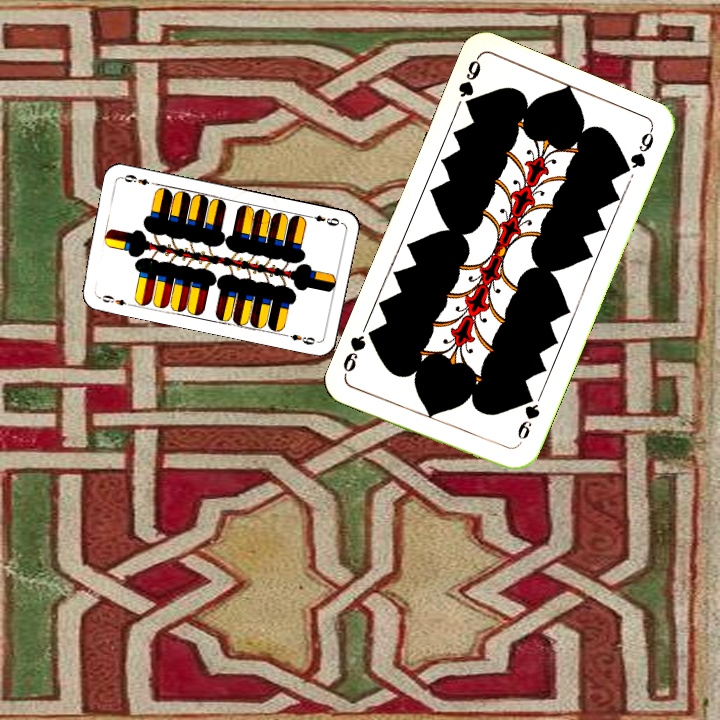E9: (303, 211, 344, 229), (94, 291, 134, 308)
G9: (454, 53, 484, 114), (512, 390, 543, 449)
